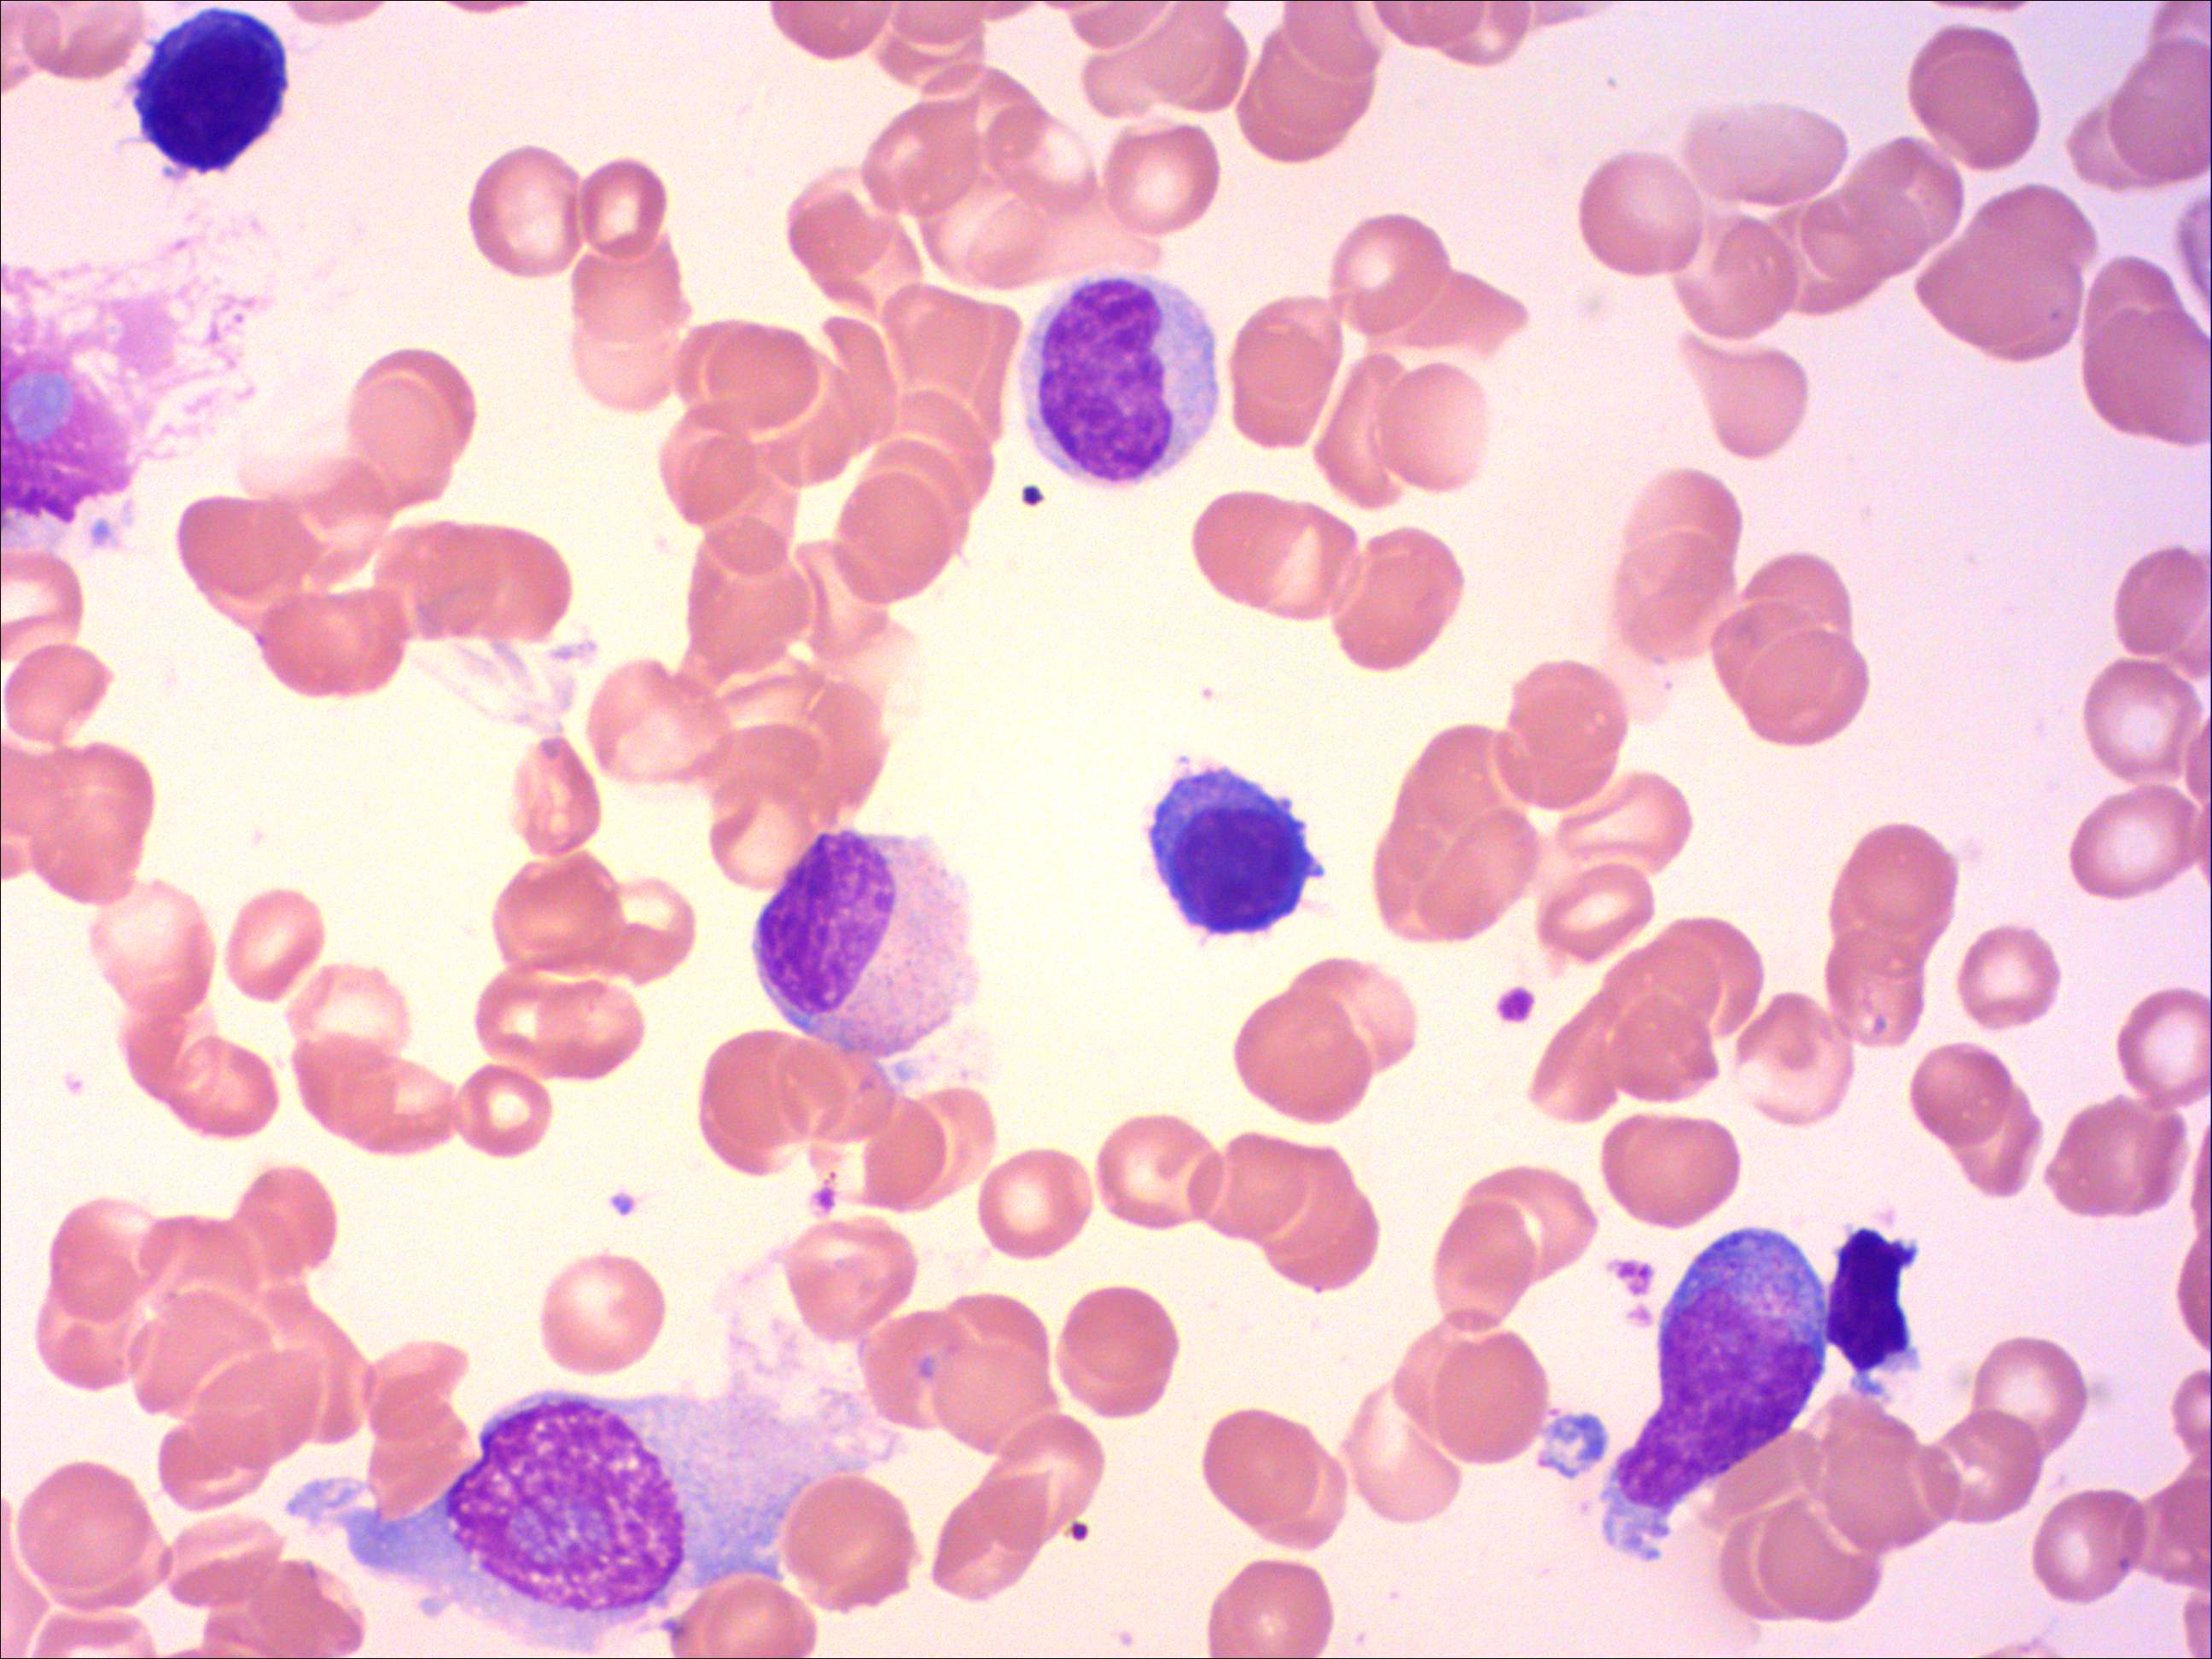32: (1820, 1222, 1919, 1378)
4: (745, 823, 986, 1065)
42: (1014, 270, 1223, 500)
51: (1144, 756, 1329, 945), (127, 0, 293, 179)
x: (289, 1378, 878, 1659), (1595, 1220, 1829, 1568)
